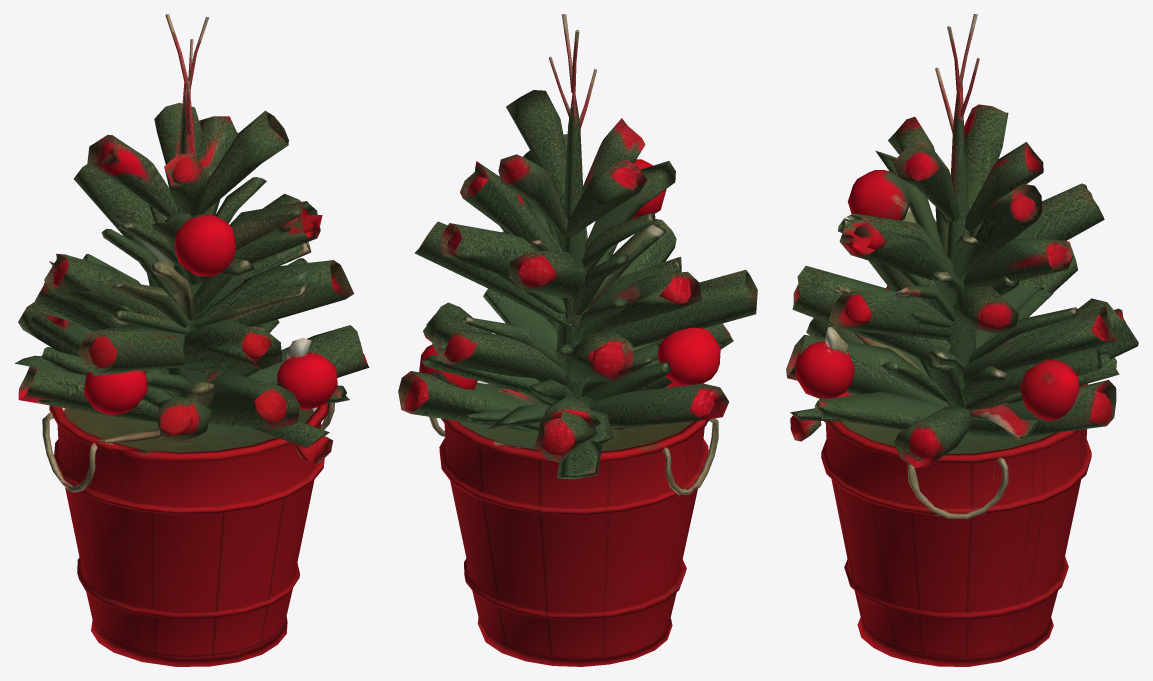
File: xmas_tree_small.glb
The picture shows the model from 3 angles, left to right: view 1: azimuth 30°, elevation 25°; view 2: azimuth 150°, elevation 25°; view 3: azimuth 270°, elevation 25°; orthographic projection.
Size of the model in its own units: 0.5553 by 1 by 0.5284.
1 material, 1 textured.
